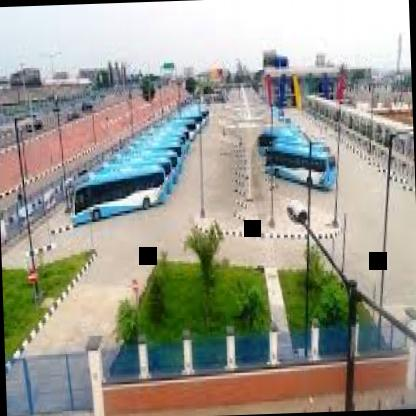car: (56, 168, 170, 225), (254, 137, 343, 199)
